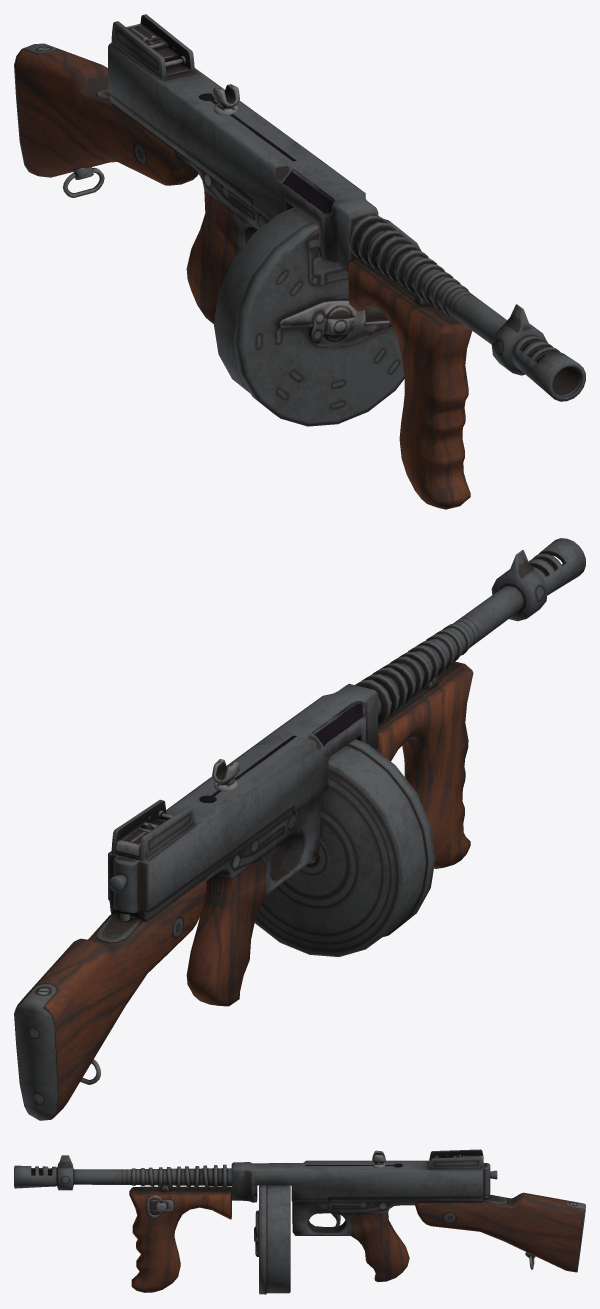
3 views of the same model, one above another, from view 1: azimuth 30°, elevation 25°; view 2: azimuth 150°, elevation 25°; view 3: azimuth 270°, elevation 25° (orthographic). The views are drawn at different scales.
Visible parts, largest first — view 1: Object_2; view 2: Object_2; view 3: Object_2.
Boxes of the visible parts, bbox=[...] form: Object_2: bbox=[14, 14, 585, 509]; Object_2: bbox=[14, 538, 585, 1120]; Object_2: bbox=[14, 1149, 585, 1294].
Size of the model in its own units: 0.2107 by 0.2663 by 1.
Materials: 1 (1 with a texture image).
